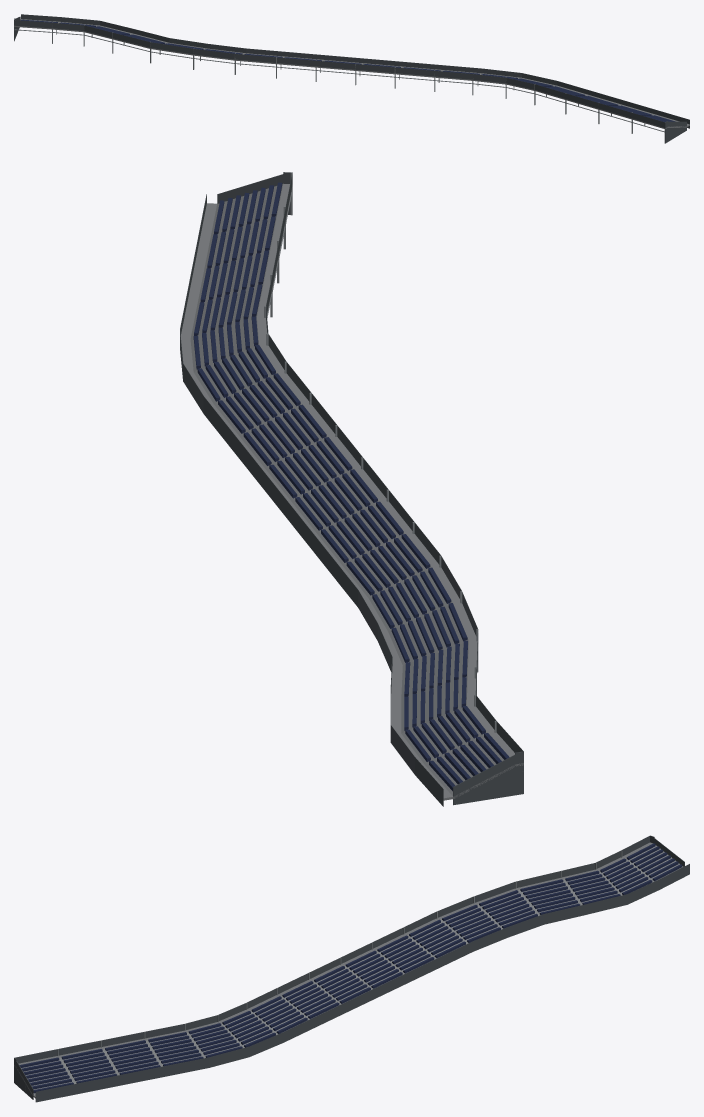
The model's file is sil_stand_luffield_corner_front.glb.
3 renders of one model, top to bottom at view 1: azimuth 30°, elevation 25°; view 2: azimuth 150°, elevation 25°; view 3: azimuth 270°, elevation 25°, orthographic. The views are drawn at different scales.
Parts seen in each view (by area): view 1: silverstone-luffield-corner-front; view 2: silverstone-luffield-corner-front; view 3: silverstone-luffield-corner-front.
Boxes of the visible parts, x1,y1,x2,y2 form: silverstone-luffield-corner-front: [14, 14, 689, 143]; silverstone-luffield-corner-front: [180, 172, 523, 806]; silverstone-luffield-corner-front: [14, 835, 689, 1102].
Bounding box in the file's own units: 92.95 × 4.5 × 110.
